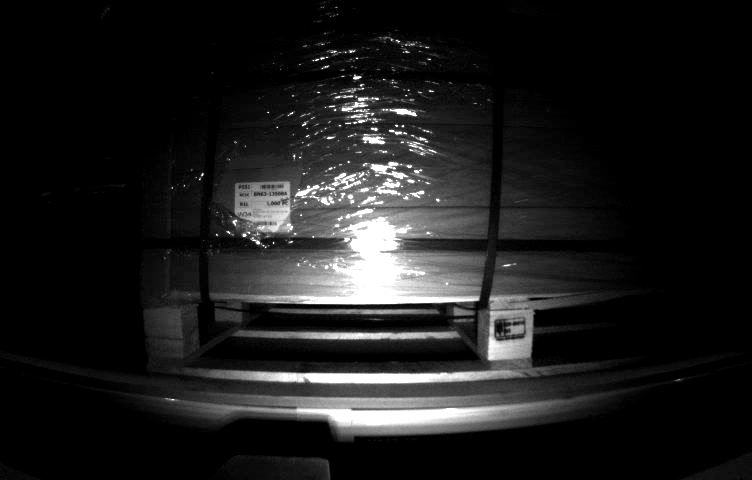True Barcode: (228, 180, 297, 237)
